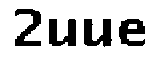2: (8, 6, 47, 49)
e: (115, 14, 148, 51)
u: (81, 14, 112, 52), (48, 15, 79, 50)
